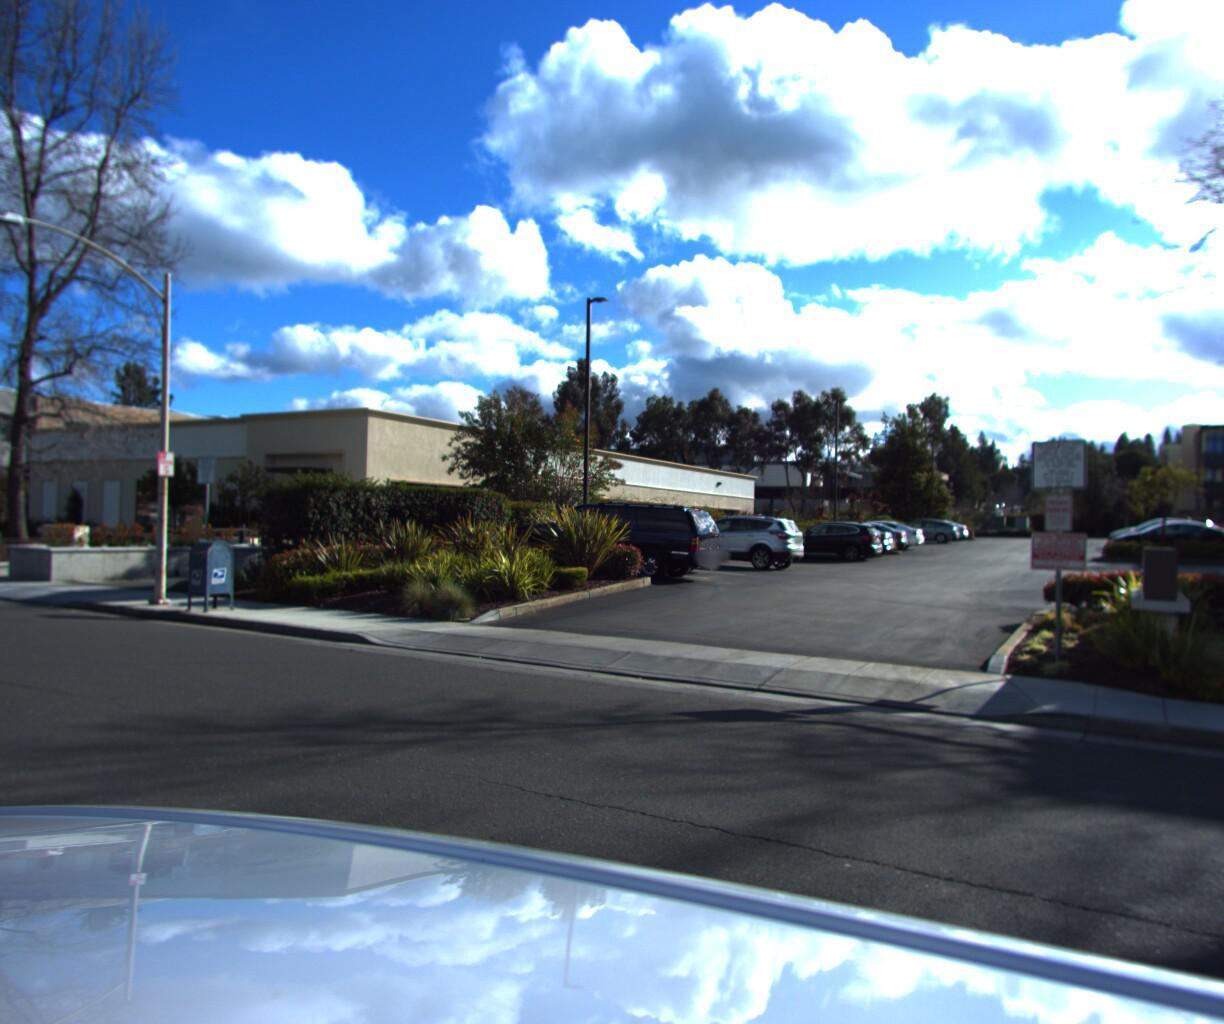car: (501, 498, 731, 582)
